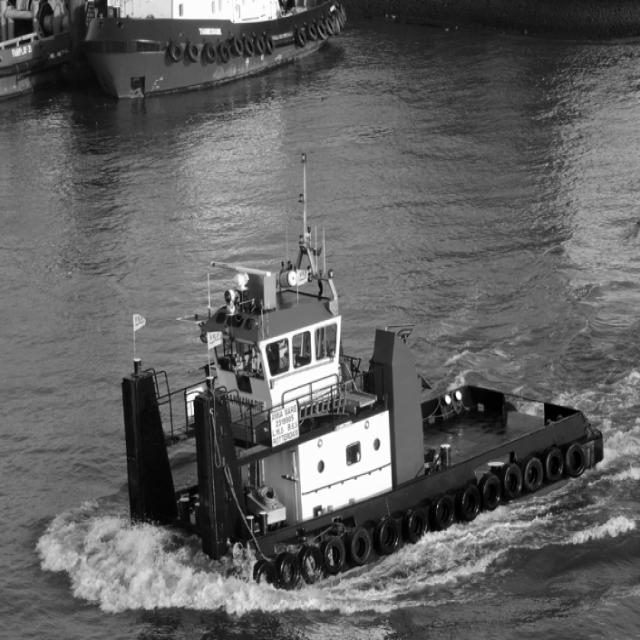tugboat: (116, 151, 609, 605)
